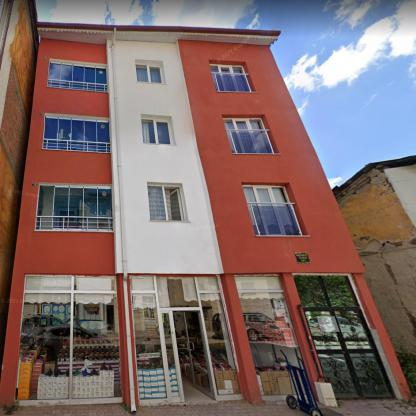door: (303, 309, 396, 400), (184, 312, 215, 400)
window: (130, 275, 241, 404), (15, 275, 122, 407), (235, 275, 301, 400), (34, 184, 113, 231), (242, 186, 304, 235), (292, 273, 362, 308), (43, 116, 110, 152), (223, 118, 276, 154), (48, 62, 107, 92), (147, 184, 187, 221), (210, 64, 252, 92), (142, 117, 173, 145), (136, 64, 164, 84)
